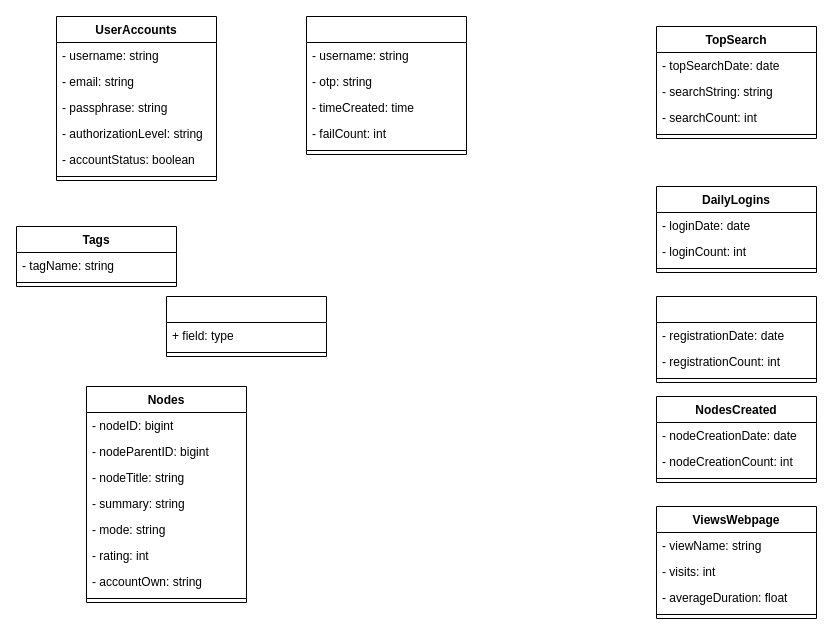
This 833x635 diagram has some shape labels left out. Each missing label, with the box of its shape:
DailyRegistrations: (656, 296, 816, 382)
OTPClaims: (306, 16, 466, 154)
TreeHistories: (166, 296, 326, 356)
